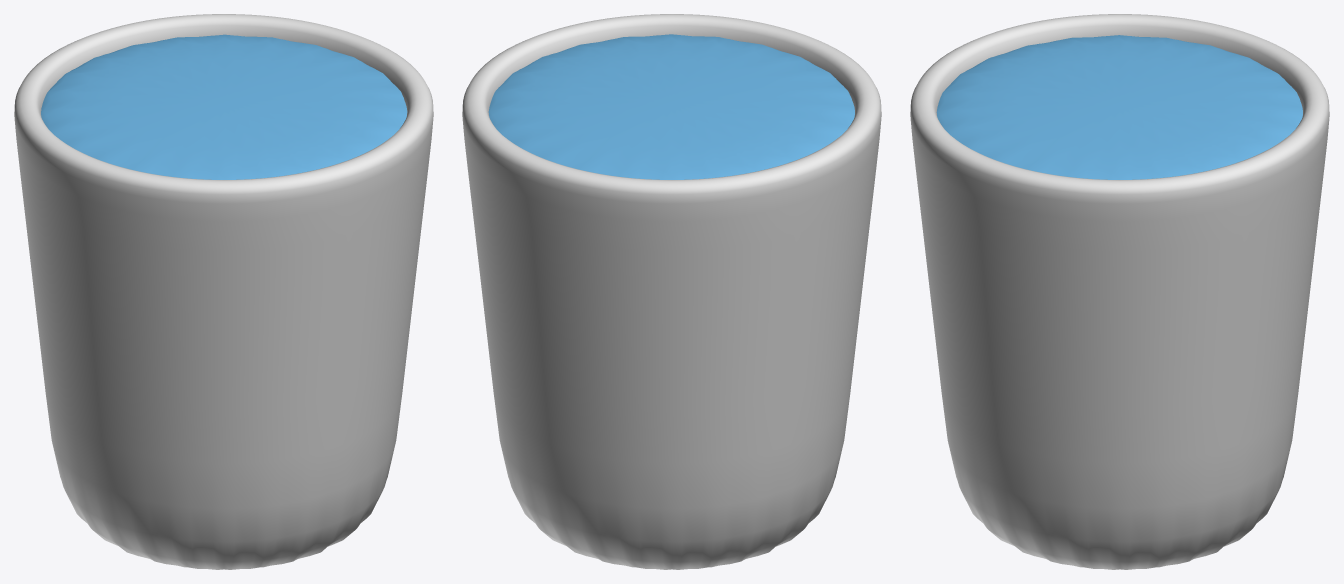
File: NormalCup.fbx
The picture shows the model from 3 angles, left to right: view 1: azimuth 30°, elevation 25°; view 2: azimuth 150°, elevation 25°; view 3: azimuth 270°, elevation 25°; orthographic projection.
Visible parts, largest first — view 1: Cylinder, Cylinder.001; view 2: Cylinder, Cylinder.001; view 3: Cylinder, Cylinder.001.
Part boxes in pixels (box(x1,y1,x2,y2)): Cylinder: box(14, 14, 433, 569); Cylinder.001: box(41, 34, 407, 179); Cylinder: box(462, 14, 881, 569); Cylinder.001: box(488, 34, 854, 179); Cylinder: box(910, 14, 1329, 569); Cylinder.001: box(936, 35, 1302, 179).
Size of the model in its own units: 2.25 by 2.61 by 2.25.
